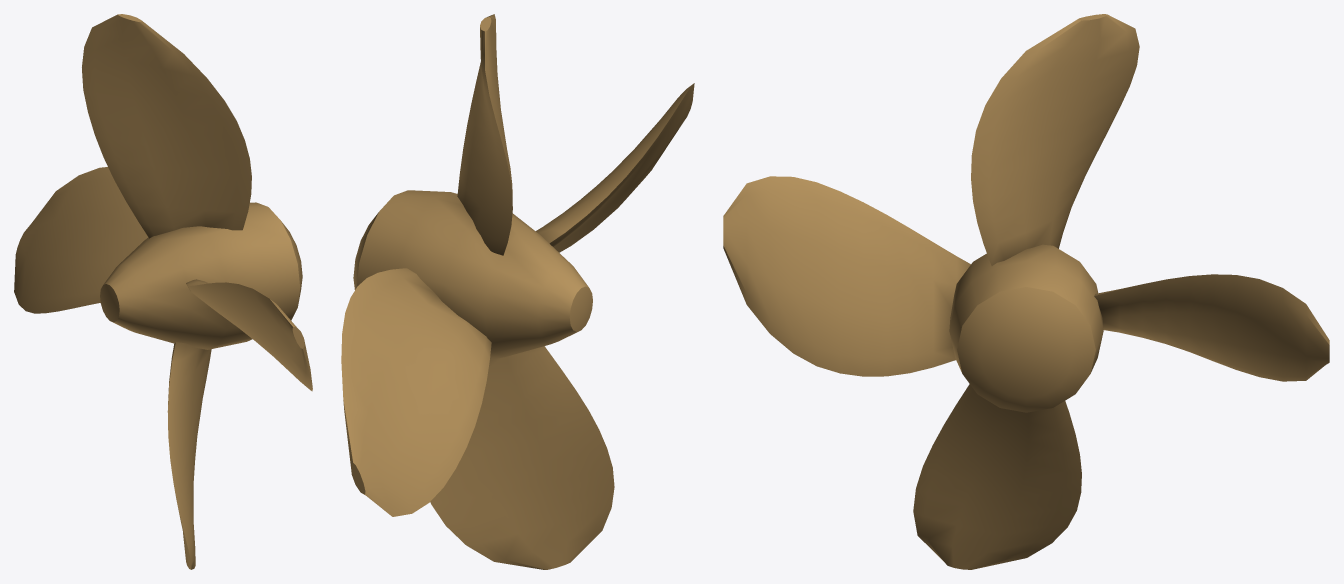
The model's file is propeller.glb.
3 views of the same model, side by side, from view 1: azimuth 30°, elevation 25°; view 2: azimuth 150°, elevation 25°; view 3: azimuth 270°, elevation 25° (orthographic). The views are drawn at different scales.
Visible parts, largest first — view 1: propeller; view 2: propeller; view 3: propeller.
Part boxes in pixels (left/top/right/bottom): propeller: left=14, top=14, right=312, bottom=569; propeller: left=341, top=14, right=694, bottom=569; propeller: left=723, top=14, right=1329, bottom=569.
Size of the model in its own units: 0.4 by 1.1 by 1.1.
